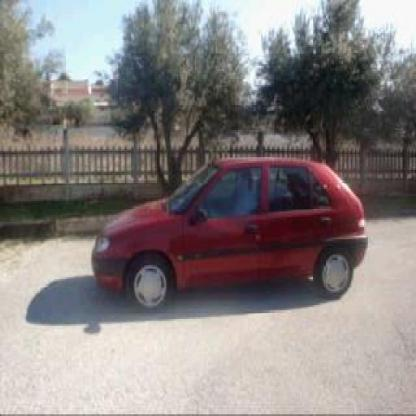other: (88, 135, 392, 323)
